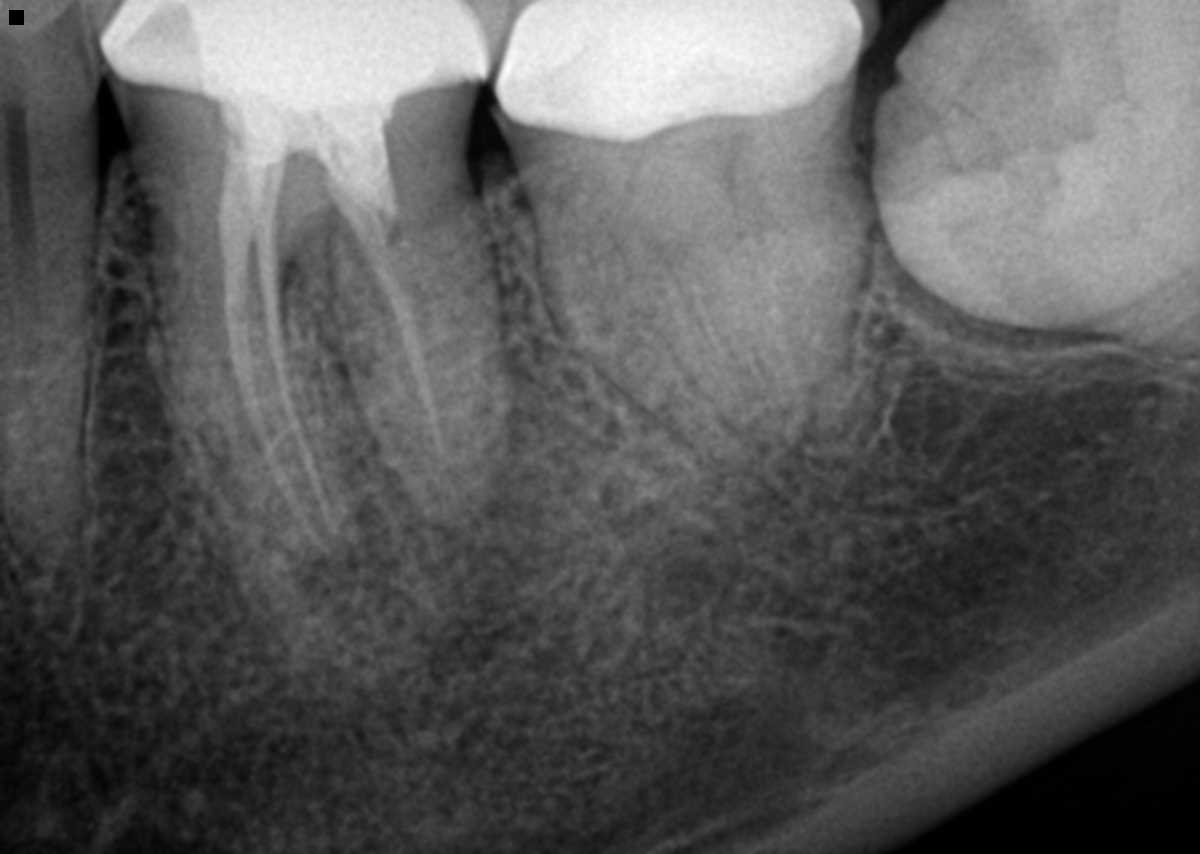Apical Lesion: (405, 346, 594, 623), (293, 489, 404, 637)
Distal Root: (319, 185, 500, 532)
Main Canal: (3, 197, 41, 445)
Main Root: (519, 98, 874, 456), (0, 188, 99, 570)
Mesial Root: (143, 184, 350, 563)
Root Canal Filling: (224, 147, 340, 550), (330, 143, 450, 464)
